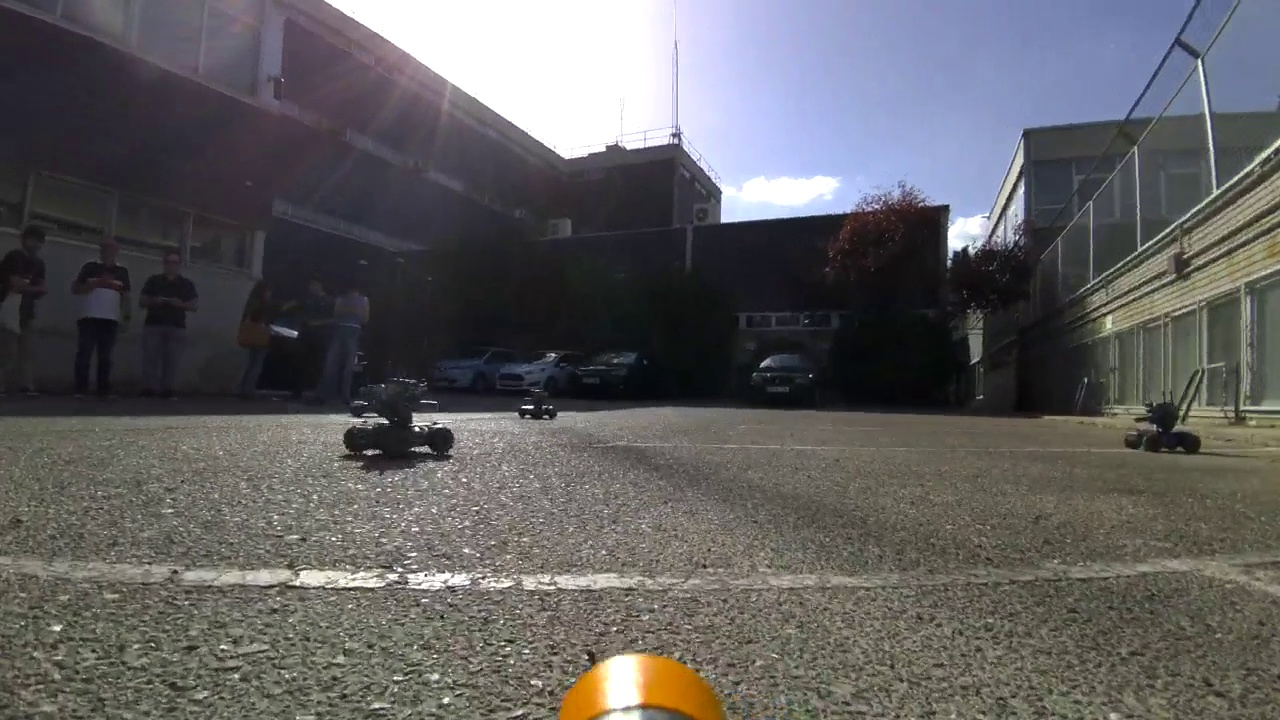robot: (329, 370, 465, 466), (1126, 397, 1200, 462), (517, 384, 556, 423)
